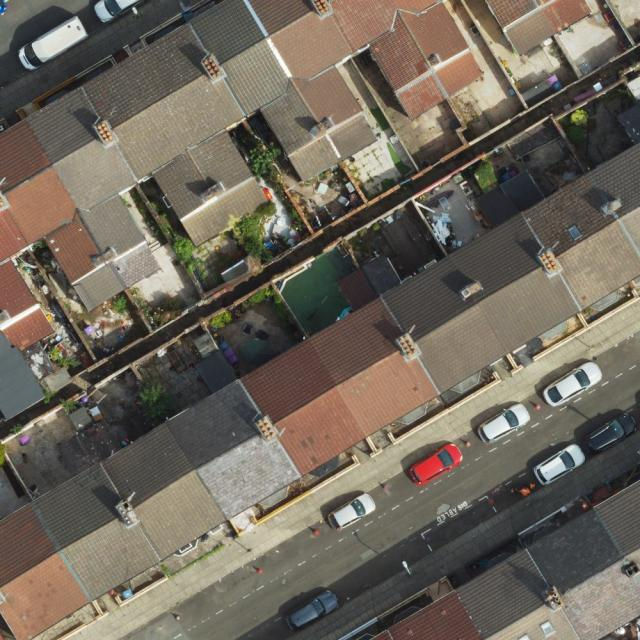roof: (0, 140, 640, 640), (0, 0, 483, 426), (372, 472, 640, 640), (486, 0, 593, 58)
skylight: (566, 220, 587, 241), (539, 616, 557, 637)
